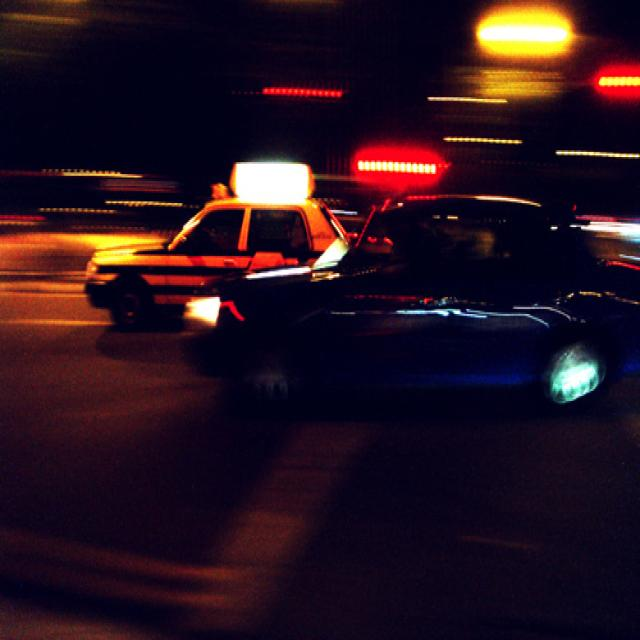Car: (175, 198, 640, 408), (82, 196, 348, 333)
